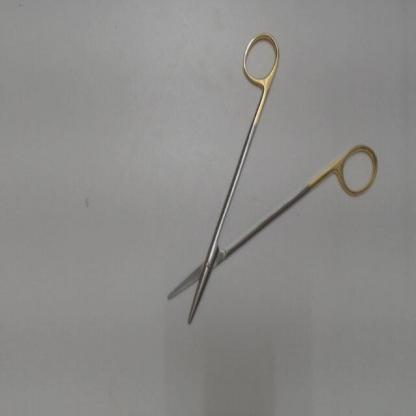7 Metzenbaum Scissors: (163, 24, 383, 328)
